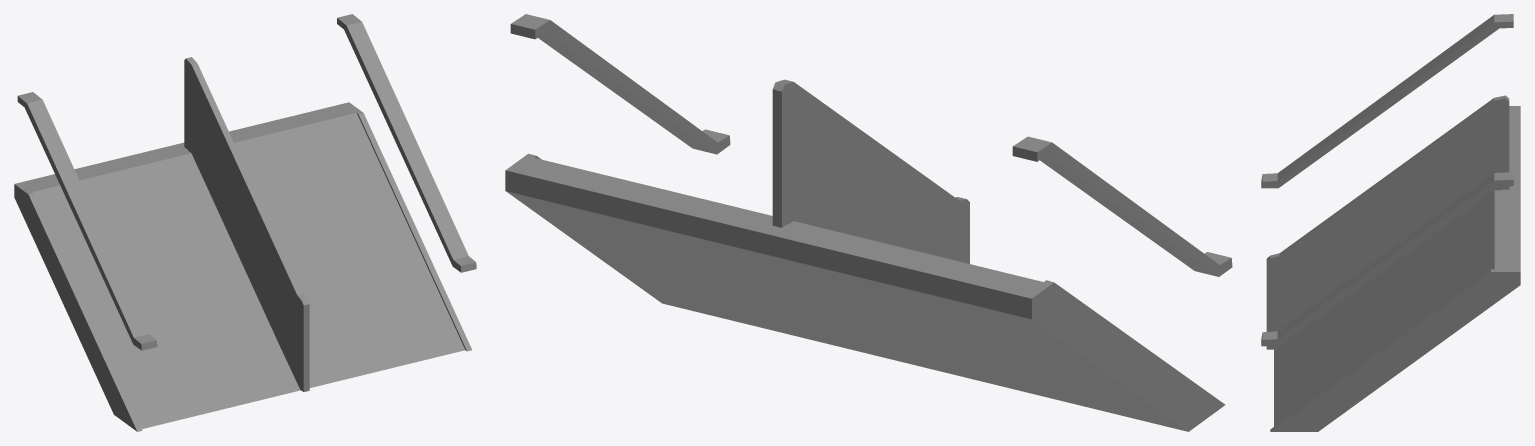
The model's file is SW_ENV_StationStair_Mid_FF_Collision.fbx.
The picture shows the model from 3 angles, left to right: view 1: azimuth 30°, elevation 25°; view 2: azimuth 150°, elevation 25°; view 3: azimuth 270°, elevation 25°; orthographic projection. The views are drawn at different scales.
Visible parts, largest first — view 1: SW_ENV_StationStair_Mid_FF_Collision; view 2: SW_ENV_StationStair_Mid_FF_Collision; view 3: SW_ENV_StationStair_Mid_FF_Collision.
Boxes of the visible parts, <box> form: SW_ENV_StationStair_Mid_FF_Collision: <box>14,14,476,431</box>; SW_ENV_StationStair_Mid_FF_Collision: <box>505,14,1232,431</box>; SW_ENV_StationStair_Mid_FF_Collision: <box>1261,14,1520,431</box>.
Size of the model in its own units: 4 by 2.84 by 2.64.
